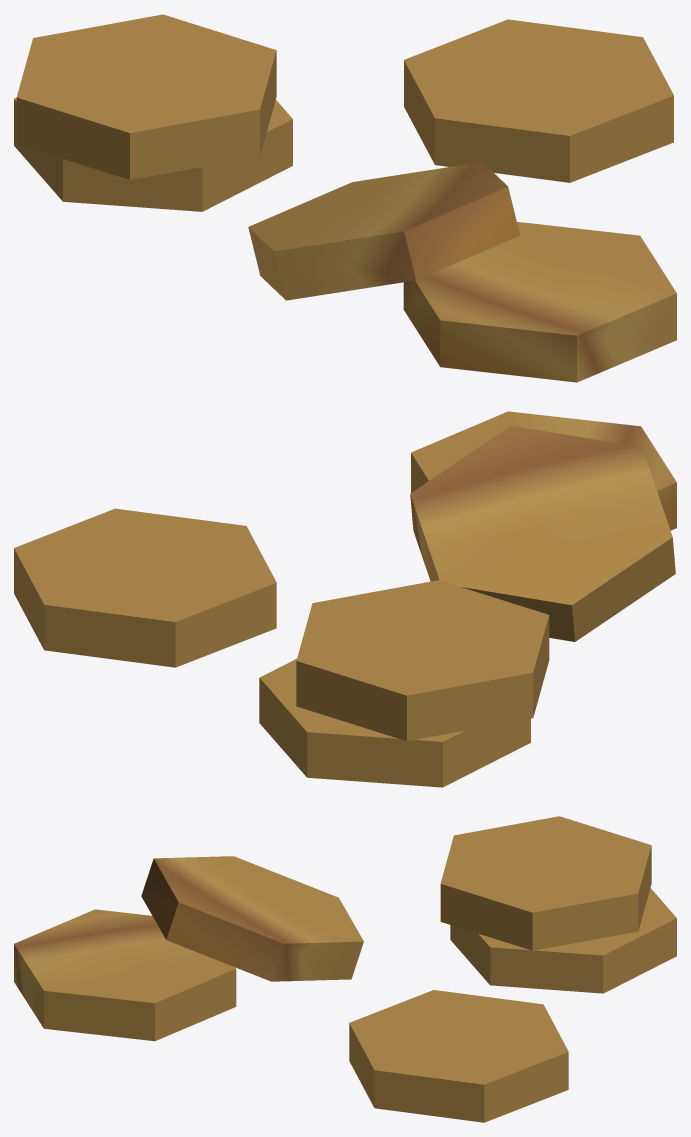
File: Coin_Pile_2.fbx
The picture shows the model from 3 angles, top to bottom: view 1: azimuth 30°, elevation 25°; view 2: azimuth 150°, elevation 25°; view 3: azimuth 270°, elevation 25°; orthographic projection. The views are drawn at different scales.
Parts seen in each view (by area): view 1: Coin_Pile_2; view 2: Coin_Pile_2; view 3: Coin_Pile_2.
Boxes of the visible parts, bbox=[...] form: Coin_Pile_2: bbox=[14, 14, 676, 382]; Coin_Pile_2: bbox=[14, 411, 676, 787]; Coin_Pile_2: bbox=[14, 816, 676, 1122].
Size of the model in its own units: 0.0496 by 0.00963 by 0.0605.
